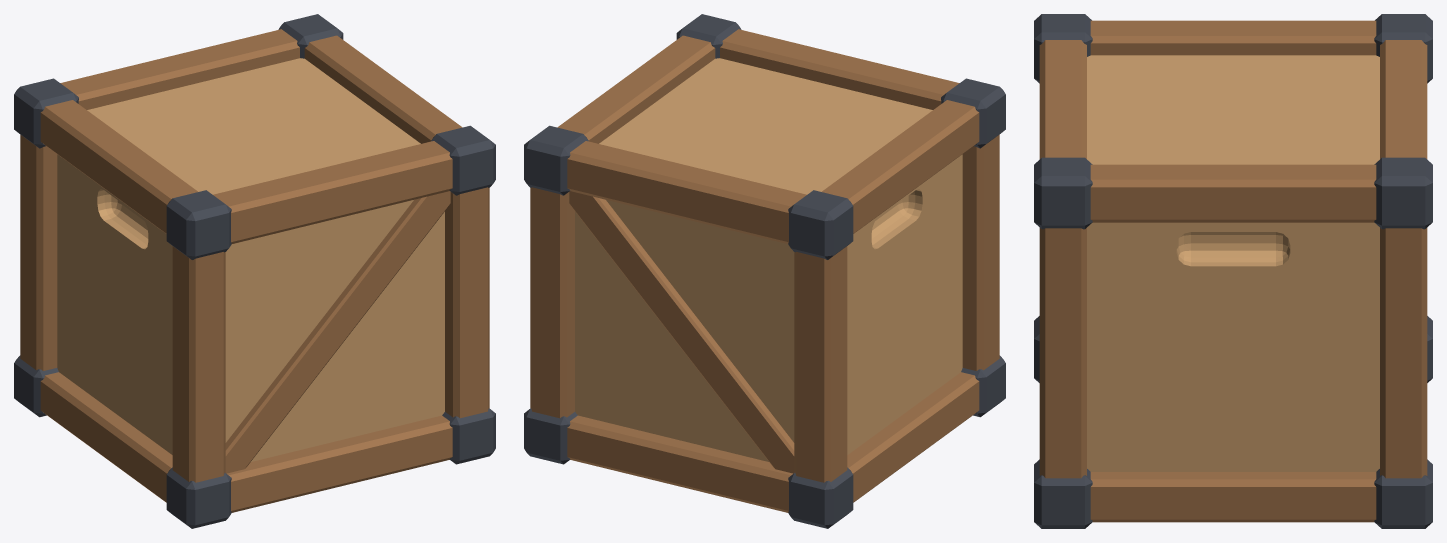
The model's file is crate.glb.
3 renders of one model, left to right at view 1: azimuth 30°, elevation 25°; view 2: azimuth 150°, elevation 25°; view 3: azimuth 270°, elevation 25°, orthographic. The views are drawn at different scales.
Parts seen in each view (by area): view 1: crate; view 2: crate; view 3: crate.
Boxes of the visible parts, box(x1,y1,x2,y2) form: crate: box(14, 14, 495, 528); crate: box(524, 14, 1005, 528); crate: box(1034, 14, 1432, 528).
Bounding box in the file's own units: 4.22 × 4.12 × 4.22.
1 material, 1 textured.
